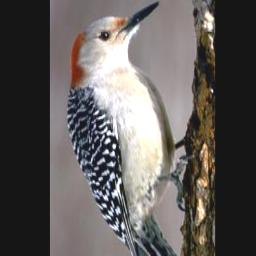Woodpecker: (66, 0, 193, 256)
